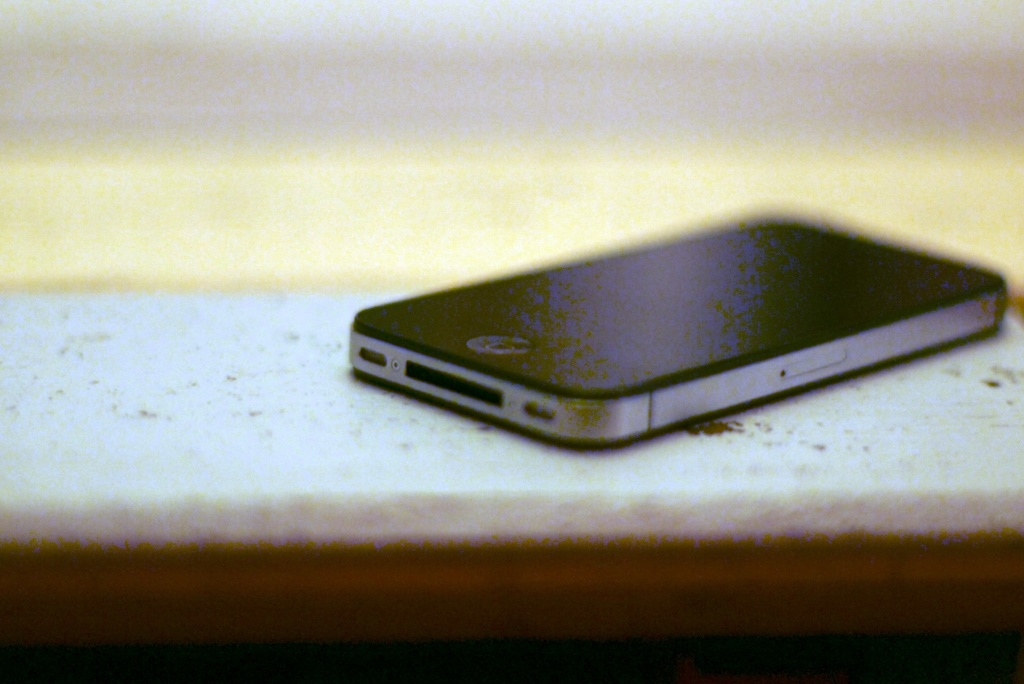mobile phone: (323, 203, 1023, 436)
